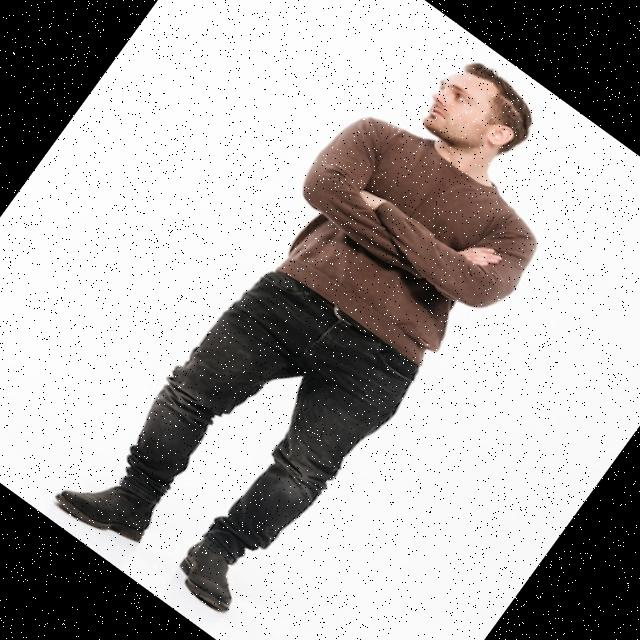Person: (51, 9, 608, 640)
